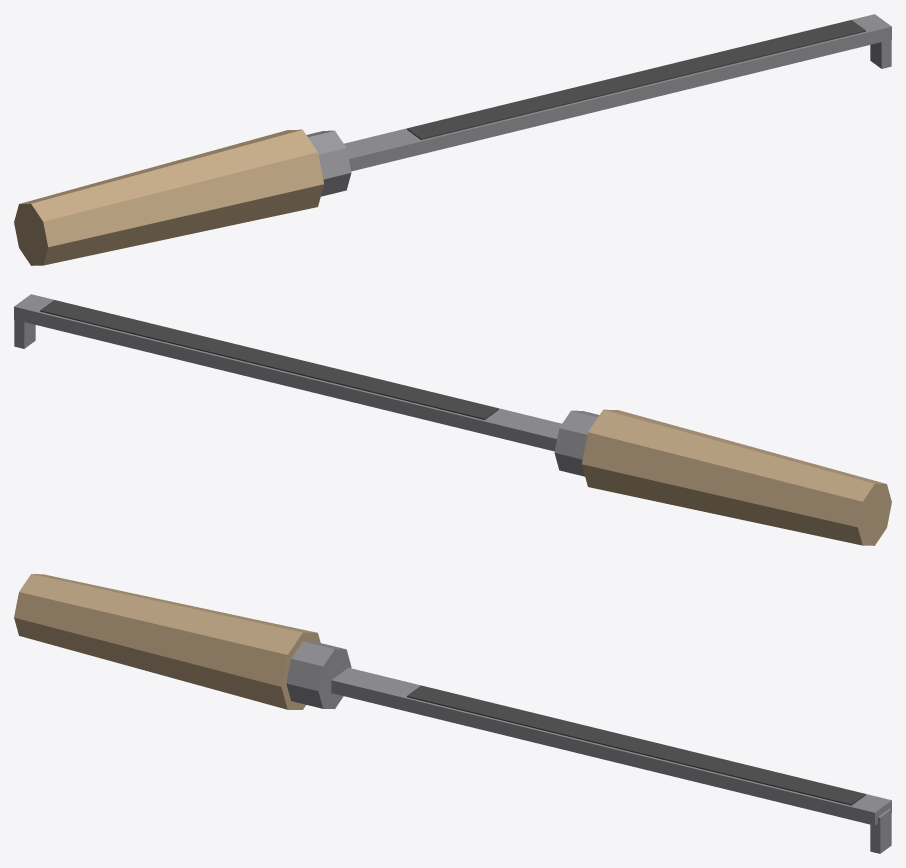
File: prop-wire-file-nd1.fbx
3 views of the same model, one above another, from view 1: azimuth 30°, elevation 25°; view 2: azimuth 150°, elevation 25°; view 3: azimuth 330°, elevation 25° (orthographic).
Visible parts, largest first — view 1: prop-wire-file-nd1; view 2: prop-wire-file-nd1; view 3: prop-wire-file-nd1.
Boxes of the visible parts, <box> form: prop-wire-file-nd1: <box>14,14,891,265</box>; prop-wire-file-nd1: <box>14,294,891,545</box>; prop-wire-file-nd1: <box>14,574,891,853</box>.
Bounding box in the file's own units: 17.3 × 1.5 × 1.5.
